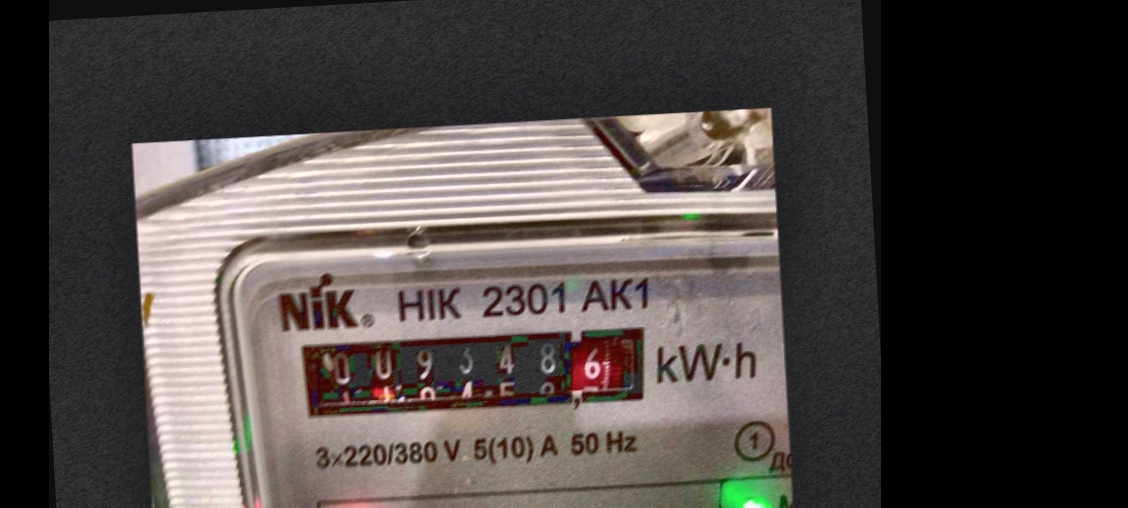0: (372, 346, 395, 383), (331, 350, 353, 386)
3: (454, 342, 477, 375)
4: (494, 340, 517, 378)
6: (581, 345, 605, 380)
8: (537, 340, 558, 375)
9: (415, 345, 434, 380)
screen: (278, 311, 668, 434)
